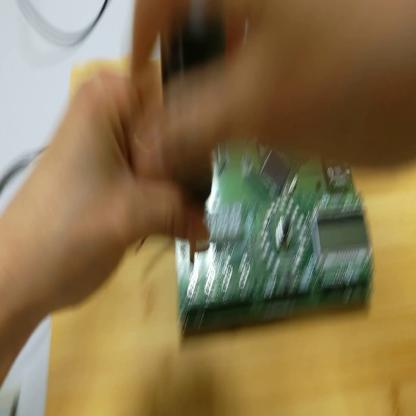hand: (32, 61, 213, 321), (136, 2, 414, 169)
low voltage board: (173, 132, 380, 343)
screwdriver-: (162, 3, 223, 265)
working area: (49, 47, 416, 416)
